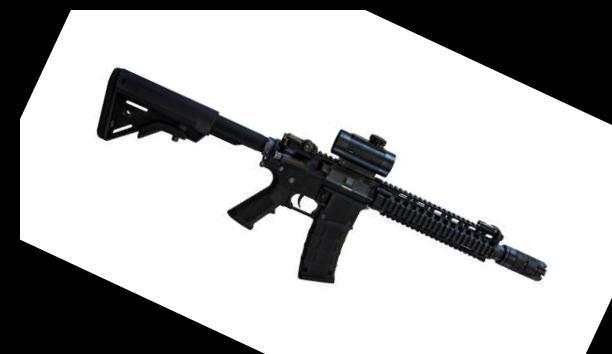larga: (96, 68, 547, 284)
